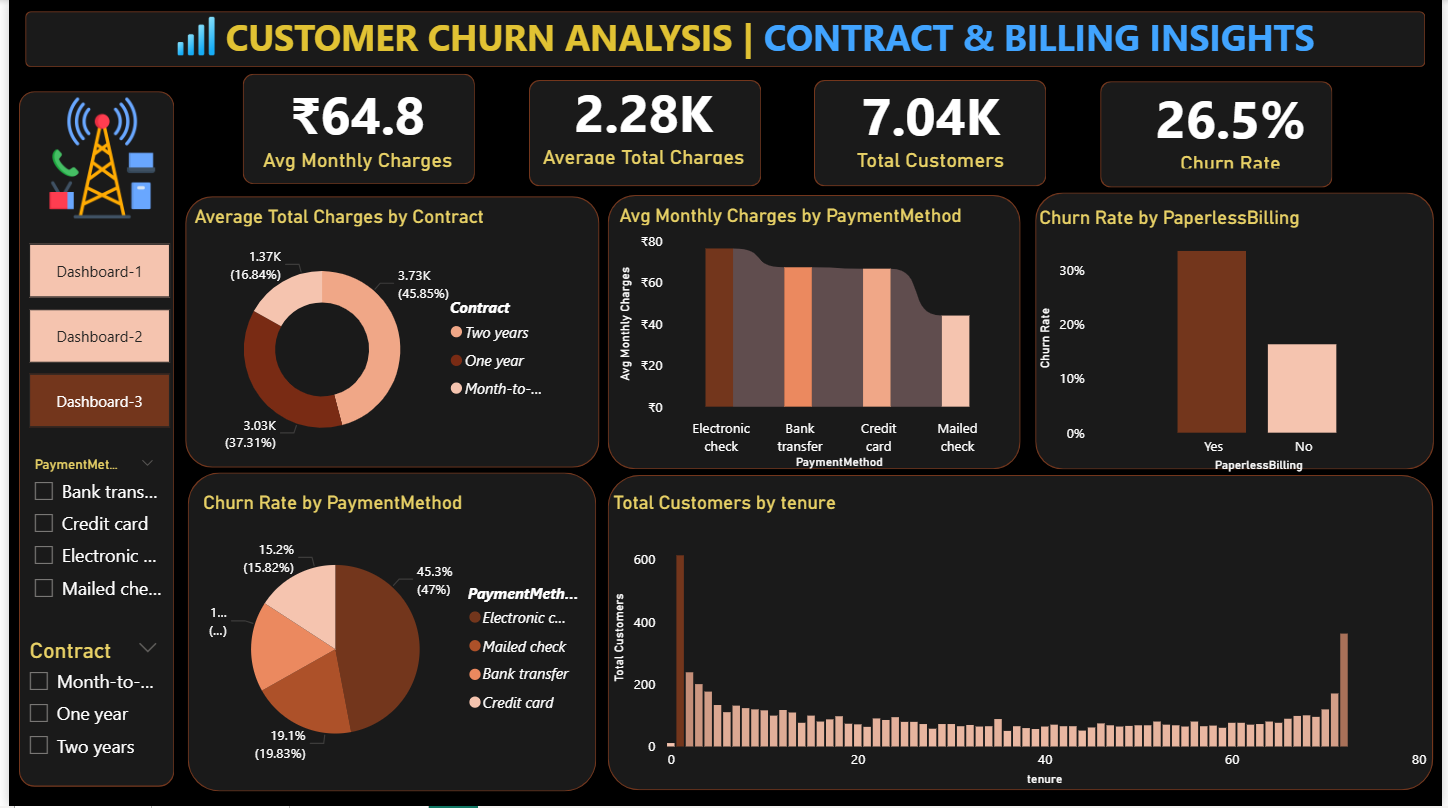

The dashboard page shown, as its layout file describes it:
{"tool":"powerbi","page":{"name":"Dashboard-3","canvas":[1280,720],"ordinal":2},"visuals":[{"type":"shape","box":[14.1,10.6,1250.7,50],"z":0},{"type":"textbox","box":[188.8,6.7,1059.9,59.1],"z":1000,"group":"g1"},{"type":"shape","box":[8.8,81.2,138.8,621.2],"z":1000},{"type":"shape","box":[157.5,175,370,242.5],"z":2000},{"type":"shape","box":[535,173.8,368.8,245],"z":3000},{"type":"shape","box":[160,422.4,365,285],"z":4000},{"type":"shape","box":[916.2,172.5,356.2,247.5],"z":5000},{"type":"image","box":[24.2,81.8,118.1,119.6],"z":6000},{"type":"group","id":"g1","title":"Group 1","box":[145.4,6.7,1103.3,59.1],"z":7000},{"type":"ribbonChart","fields":{"Category":["Telco_Customer_Churn_Data.PaymentMethod"],"Y":["Telco_Customer_Churn_Data.Avg Monthly Charges"]},"box":[540.6,181.7,354.3,242.3],"z":8000},{"type":"clusteredColumnChart","fields":{"Category":["Telco_Customer_Churn_Data.PaperlessBilling"],"Y":["Telco_Customer_Churn_Data.Churn Rate"]},"box":[916.1,184.7,351.3,242.3],"z":9000},{"type":"shape","box":[534.5,424.1,737.4,281.6],"z":10000},{"type":"columnChart","fields":{"Category":["Telco_Customer_Churn_Data.tenure","Telco_Customer_Churn_Data.Contract"],"Y":["Telco_Customer_Churn_Data.Total Customers1"]},"box":[534.5,439.1,737.4,268],"z":11000},{"type":"slicer","fields":{"Values":["Telco_Customer_Churn_Data.Contract"]},"box":[6.1,564.8,139.3,125.7],"z":12000},{"type":"slicer","fields":{"Values":["Telco_Customer_Churn_Data.PaymentMethod"]},"box":[10.6,402.8,131.7,146.9],"z":13000},{"type":"shape","box":[208.8,66.2,207.5,98.8],"z":14000},{"type":"shape","box":[464.2,71.2,207.5,95],"z":15000},{"type":"shape","box":[719.6,71.2,207.5,95],"z":16000},{"type":"shape","box":[975,72.5,207.5,95],"z":17000},{"type":"card","fields":{"Values":["Telco_Customer_Churn_Data.Avg Monthly Charges"]},"box":[213.5,63.6,196.8,95.4],"z":18000},{"type":"card","fields":{"Values":["Telco_Customer_Churn_Data.Average Total Charges"]},"box":[463.3,66.6,207.4,84.8],"z":19000},{"type":"card","fields":{"Values":["Telco_Customer_Churn_Data.Churn Rate"]},"box":[991.8,74.2,199.9,81.8],"z":20000},{"type":"donutChart","fields":{"Category":["Telco_Customer_Churn_Data.Contract"],"Y":["Telco_Customer_Churn_Data.Average Total Charges"]},"box":[160.5,183.2,336.2,239.2],"z":21000},{"type":"pieChart","fields":{"Category":["Telco_Customer_Churn_Data.PaymentMethod"],"Y":["Telco_Customer_Churn_Data.Churn Rate"]},"box":[168.1,439.1,348.3,263.5],"z":22000},{"type":"card","title":"Total Customer","fields":{"Values":["Telco_Customer_Churn_Data.Total Customers K"]},"box":[732.9,56,181.7,112.1],"z":23000},{"type":"pageNavigator","box":[18.4,217.9,126.8,165.8],"z":24000},{"type":"image","box":[145.4,7.6,43.9,48.5],"z":24004,"group":"g1"}]}

Visuals, with their boxes in screenshot pixels (x1, y1, x2, y2), scaled from the page's 1280x720 canvas onto the 1448x808 screenshot:
shape: [16,12,1431,68]
textbox: [214,8,1413,74]
shape: [10,91,167,788]
shape: [178,196,597,469]
shape: [605,195,1022,470]
shape: [181,474,594,794]
shape: [1036,194,1439,471]
image: [27,92,161,226]
"Group 1" group: [164,8,1413,74]
ribbonChart - Telco_Customer_Churn_Data.PaymentMethod x Telco_Customer_Churn_Data.Avg Monthly Charges: [612,204,1012,476]
clusteredColumnChart - Telco_Customer_Churn_Data.PaperlessBilling x Telco_Customer_Churn_Data.Churn Rate: [1036,207,1434,479]
shape: [605,476,1439,792]
columnChart - Telco_Customer_Churn_Data.tenure x Telco_Customer_Churn_Data.Contract: [605,493,1439,794]
slicer - Telco_Customer_Churn_Data.Contract: [7,634,164,775]
slicer - Telco_Customer_Churn_Data.PaymentMethod: [12,452,161,617]
shape: [236,74,471,185]
shape: [525,80,760,187]
shape: [814,80,1049,187]
shape: [1103,81,1338,188]
card - Telco_Customer_Churn_Data.Avg Monthly Charges: [242,71,464,178]
card - Telco_Customer_Churn_Data.Average Total Charges: [524,75,759,170]
card - Telco_Customer_Churn_Data.Churn Rate: [1122,83,1348,175]
donutChart - Telco_Customer_Churn_Data.Contract x Telco_Customer_Churn_Data.Average Total Charges: [182,206,562,474]
pieChart - Telco_Customer_Churn_Data.PaymentMethod x Telco_Customer_Churn_Data.Churn Rate: [190,493,584,788]
"Total Customer" card: [829,63,1035,189]
pageNavigator: [21,245,164,431]
image: [164,9,214,63]
